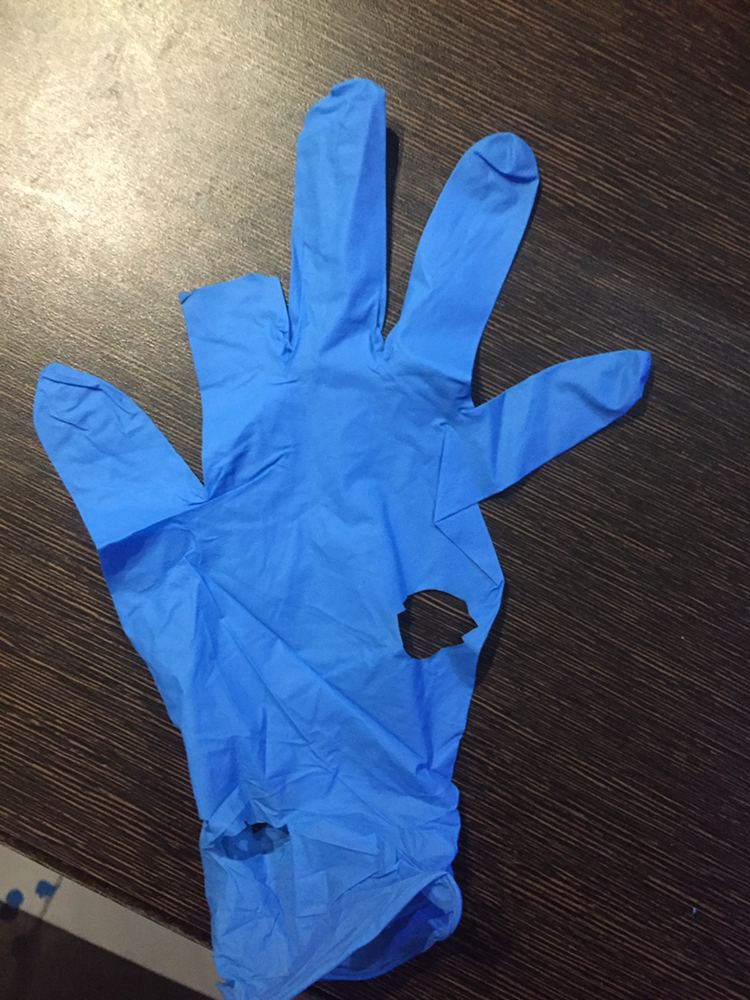defected: (44, 72, 610, 922)
